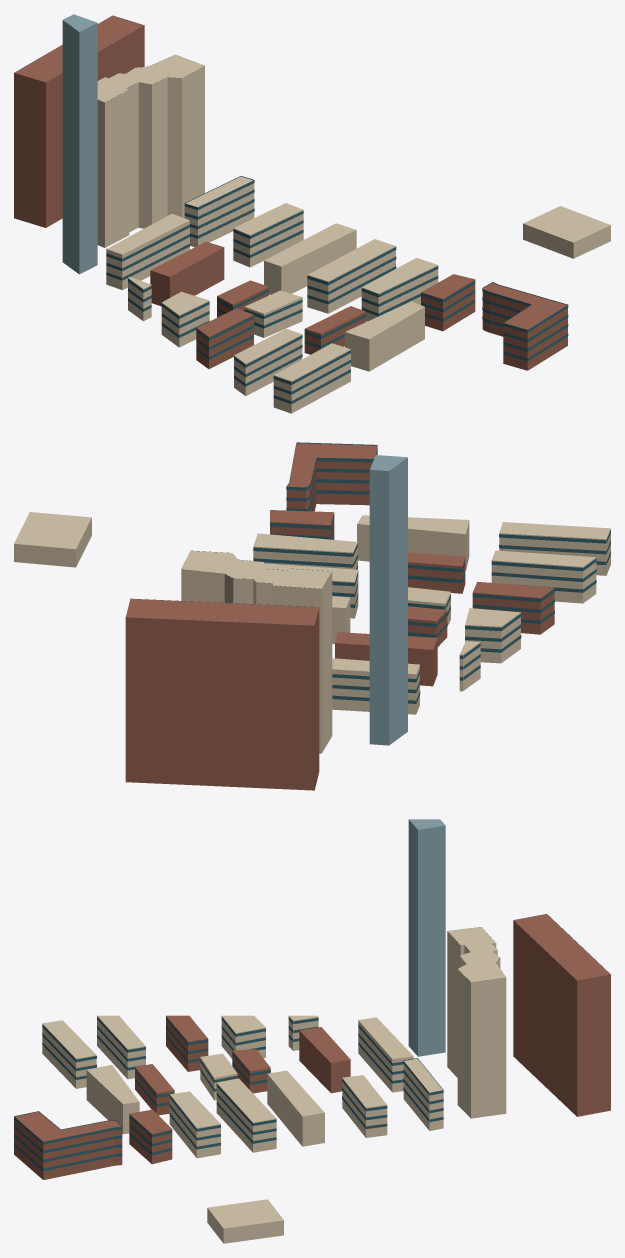
The model's file is city_-4_-6.glb.
3 renders of one model, top to bottom at view 1: azimuth 30°, elevation 25°; view 2: azimuth 150°, elevation 25°; view 3: azimuth 270°, elevation 25°, orthographic. The views are drawn at different scales.
Visible parts, largest first — view 1: city_-4_-6; view 2: city_-4_-6; view 3: city_-4_-6.
Part boxes in pixels (left/top/right/bottom): city_-4_-6: left=14, top=14, right=610, bottom=413; city_-4_-6: left=14, top=442, right=610, bottom=790; city_-4_-6: left=14, top=819, right=610, bottom=1243.
Size of the model in its own units: 191 by 102 by 243.
